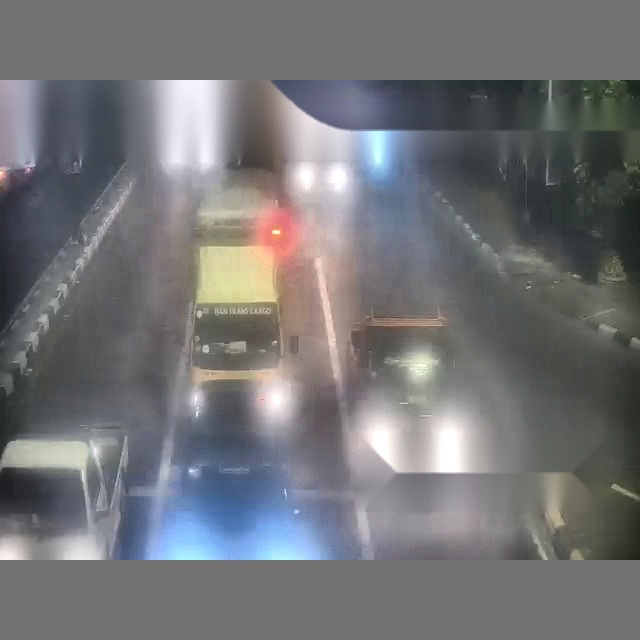Mobil: (0, 430, 127, 559)
